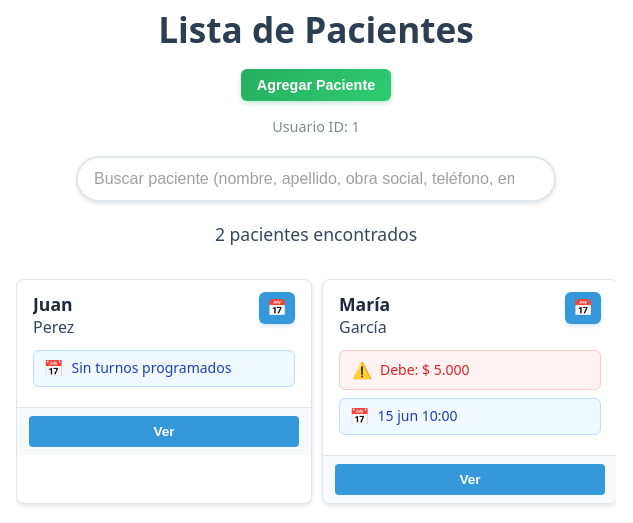
Test: Patients component › shows clear button when search term is entered
The width and height of the screenshot is (633, 523).
Expected: the heading "Juan" is shown, top-left (33, 292), bottom-right (73, 316)
Replace the text in the field with placeholder "Buscar paciente" with "Juan" at (316, 179), box top-left (76, 156), bottom-right (556, 202)
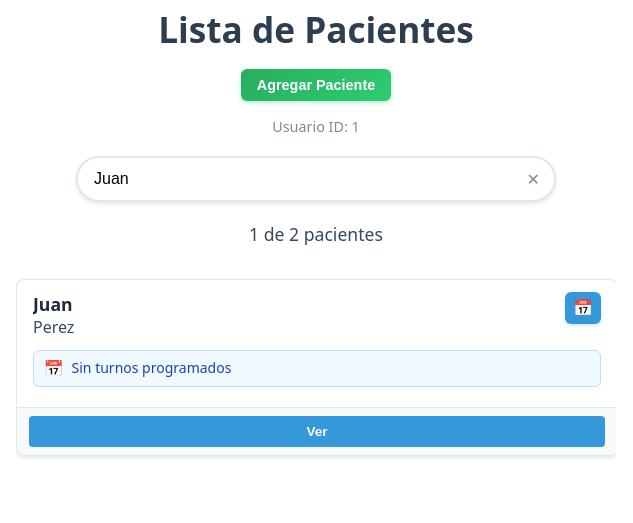
Now the button titled "Limpiar búsqueda" is shown, box top-left (523, 166), bottom-right (544, 193)
